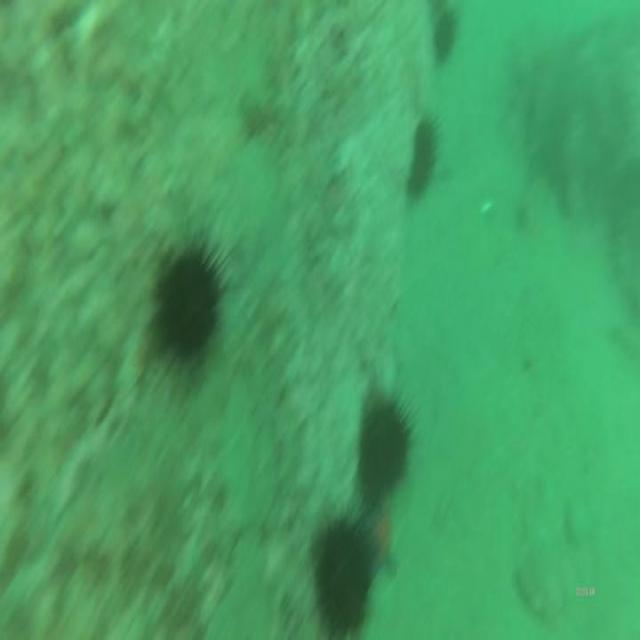echinus: (150, 231, 230, 384), (313, 502, 376, 640), (356, 393, 415, 498), (402, 112, 443, 201), (433, 5, 460, 70)
starfish: (357, 486, 400, 584)
